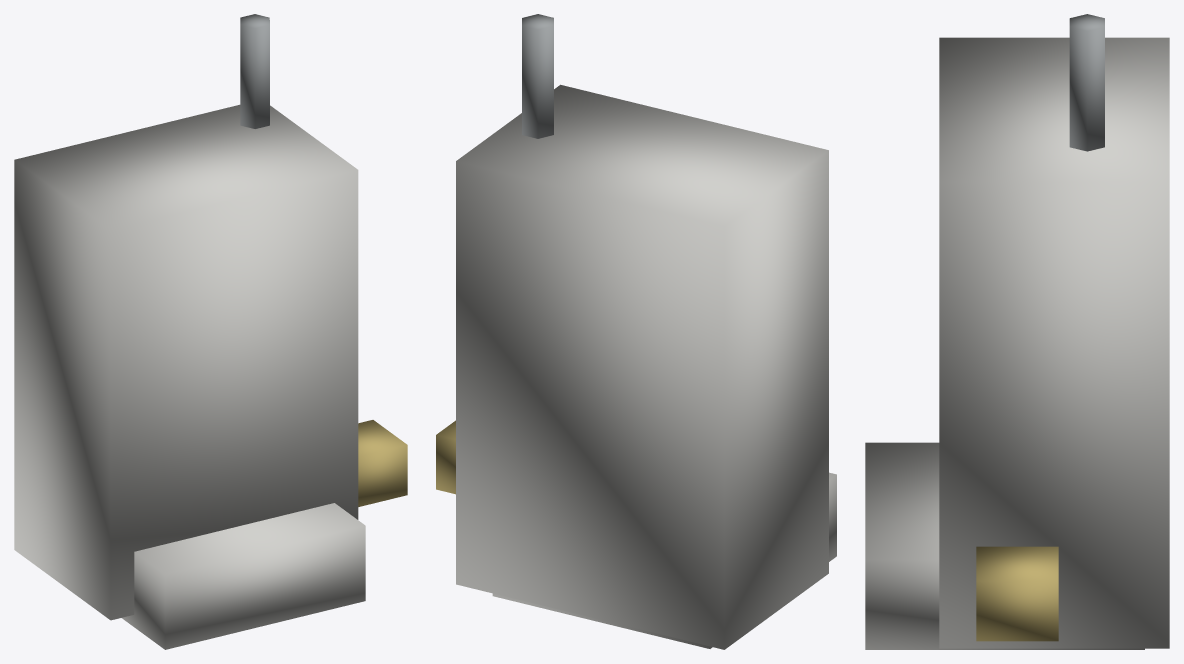
File: urinal_14.glb
3 views of the same model, side by side, from view 1: azimuth 30°, elevation 25°; view 2: azimuth 150°, elevation 25°; view 3: azimuth 270°, elevation 25° (orthographic). The views are drawn at different scales.
Visible parts, largest first — view 1: world; view 2: world; view 3: world.
Boxes of the visible parts, x1,y1,x2,y2 form: world: (14,14,407,649); world: (436,14,836,649); world: (865,14,1169,649).
Bounding box in the file's own units: 0.5088 × 0.8036 × 0.3589.
